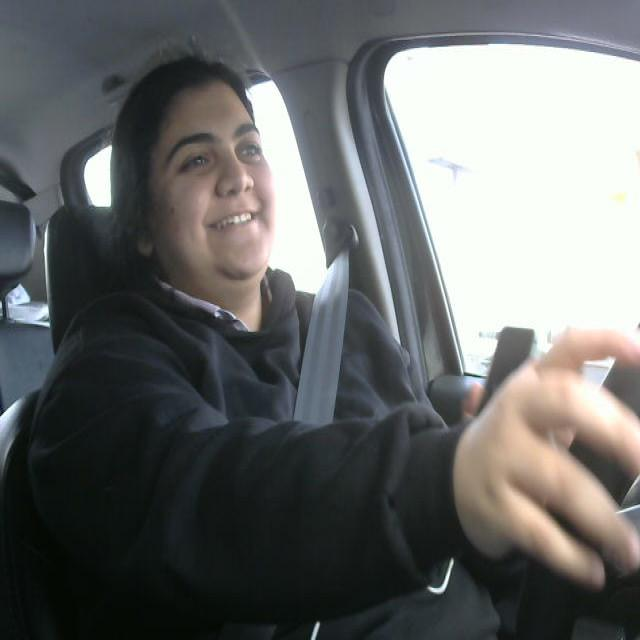mobile use: (472, 318, 538, 434)
